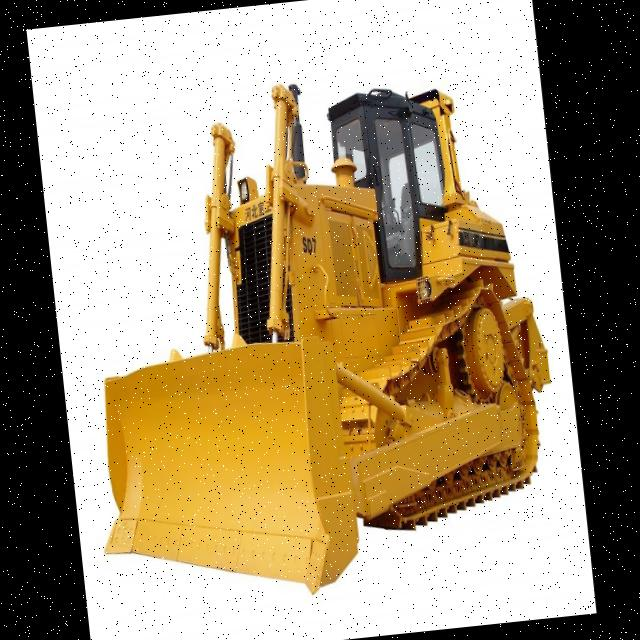Bulldozer: (53, 32, 600, 629)
